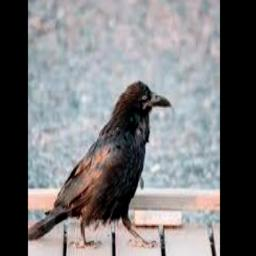Crow: (28, 80, 172, 248)
